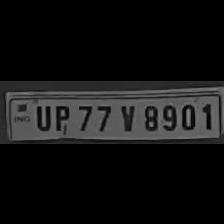0: (177, 100, 197, 128)
1: (197, 100, 214, 128)
7: (73, 101, 93, 131), (92, 101, 112, 131)
8: (139, 101, 159, 131)
9: (158, 100, 178, 130)
P: (50, 101, 72, 131)
U: (32, 100, 52, 130)
V: (114, 101, 138, 131)
